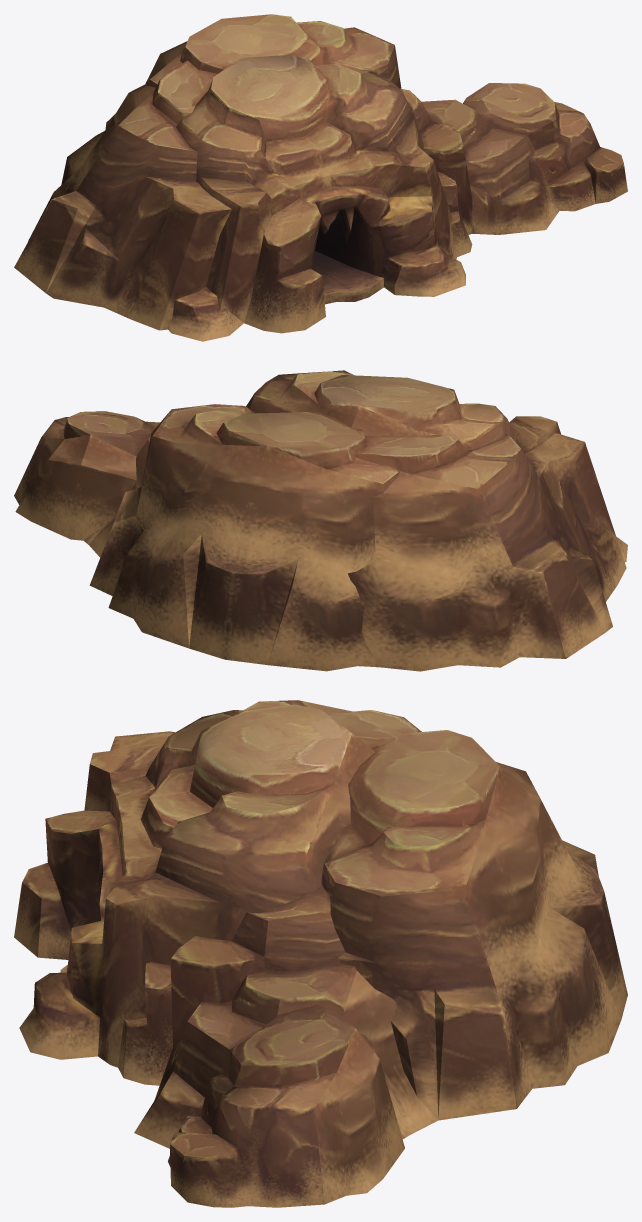
The model's file is shandong02.FBX.
3 renders of one model, top to bottom at view 1: azimuth 30°, elevation 25°; view 2: azimuth 150°, elevation 25°; view 3: azimuth 270°, elevation 25°, orthographic. The views are drawn at different scales.
Parts seen in each view (by area): view 1: shandong02; view 2: shandong02; view 3: shandong02.
Part boxes in pixels (x1=…): shandong02: x1=14, y1=14, x2=627, y2=341; shandong02: x1=14, y1=370, x2=627, y2=671; shandong02: x1=14, y1=700, x2=627, y2=1207.
Size of the model in its own units: 934 by 283 by 640.
